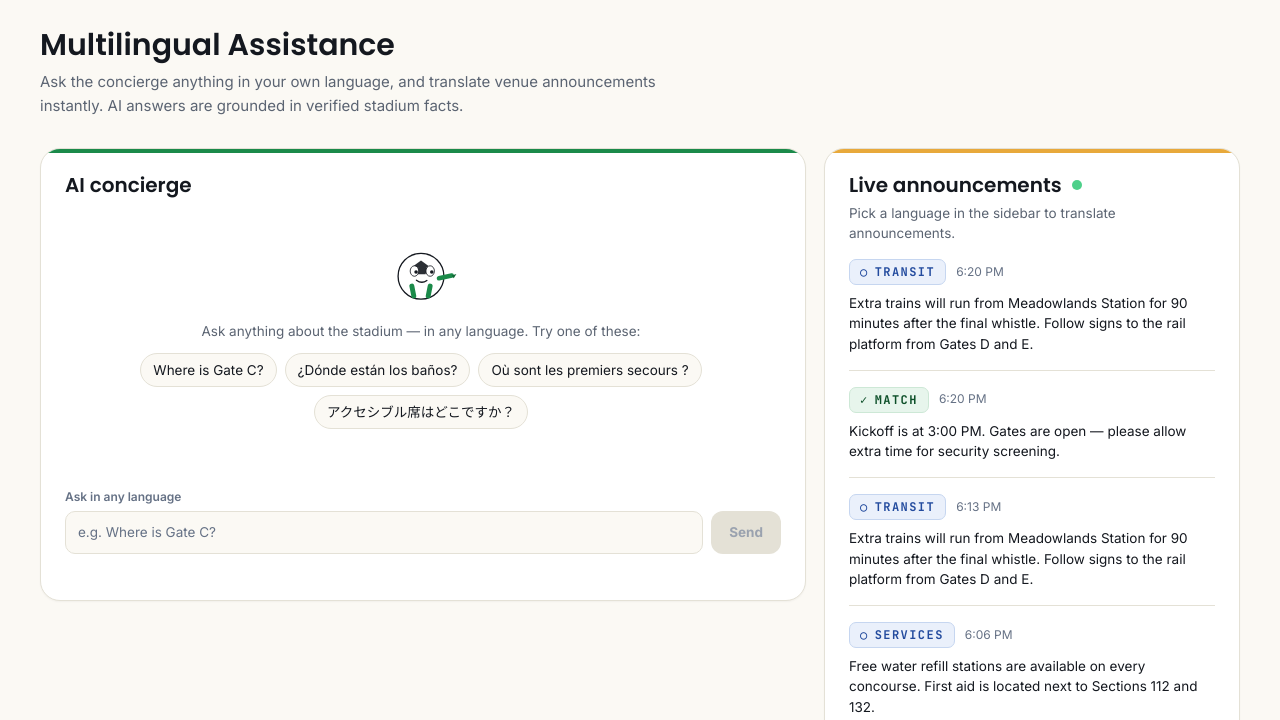
MultilingualAssistanceScreen — concierge send flow › offers multilingual starter questions in the empty state and sends on click
Click the button "Where is Gate C?": (208, 370) [140,353,277,387]
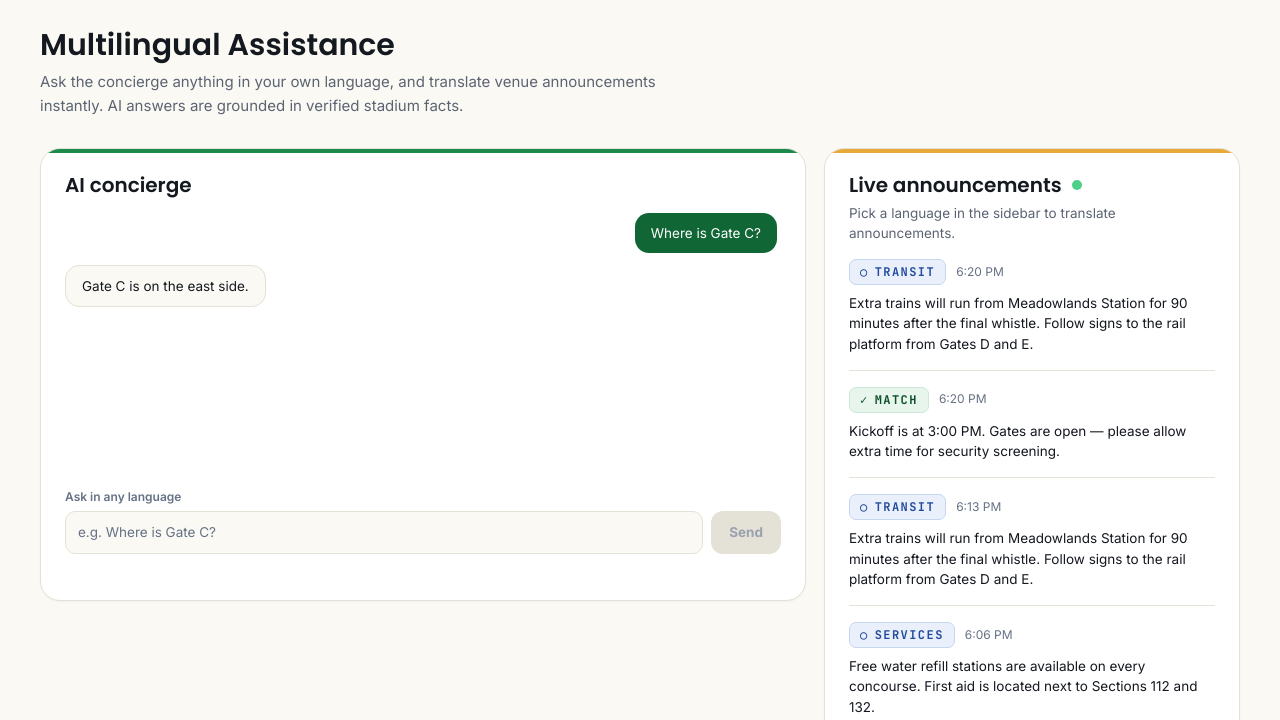
Check: the text "Gate C is on the east side." is shown, box [82,276,249,296]
